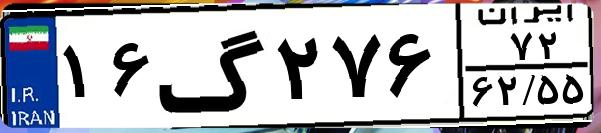1: (57, 26, 110, 100)
2: (270, 28, 330, 110), (537, 27, 568, 80), (495, 70, 520, 125)
5: (560, 70, 590, 125), (535, 70, 560, 125)
6: (385, 28, 445, 110), (110, 28, 156, 98), (470, 70, 495, 125)
7: (330, 28, 385, 110), (508, 27, 537, 80)
گ: (156, 12, 270, 120)
